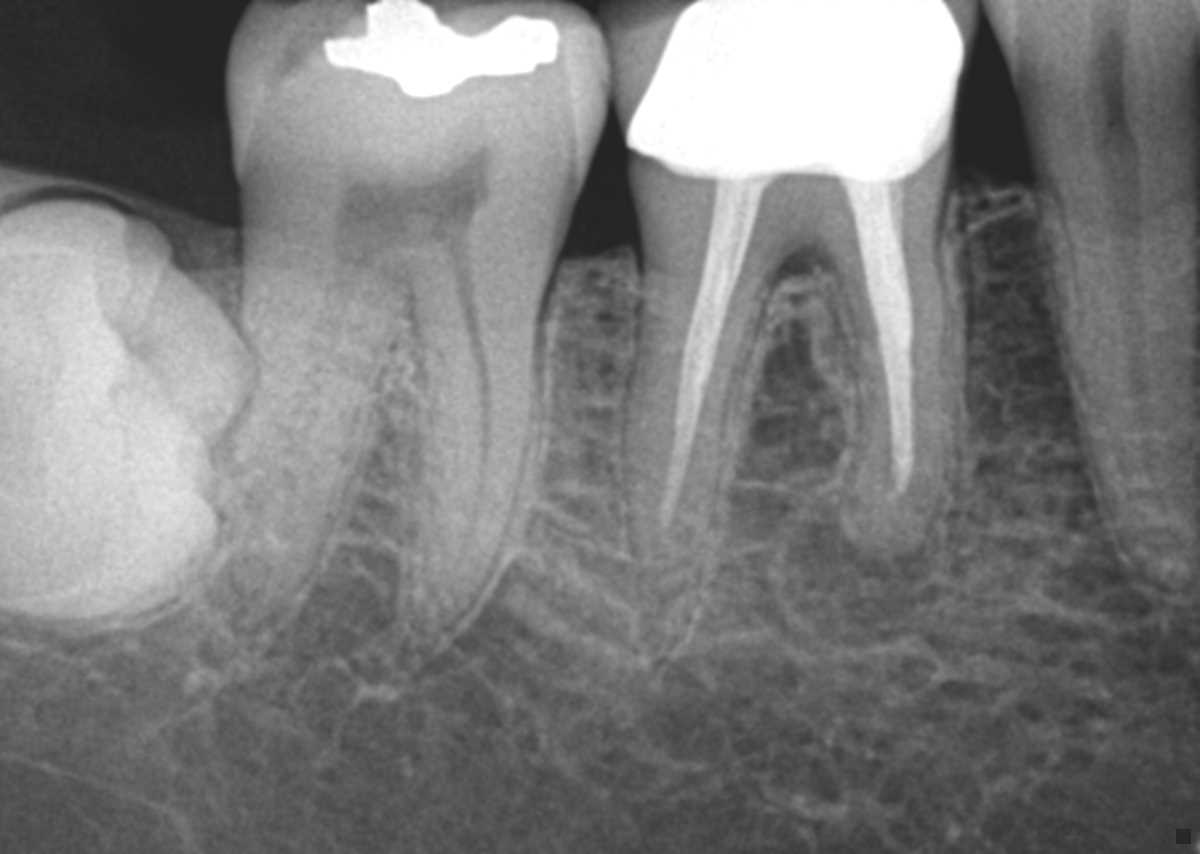Apical Lesion: (774, 491, 942, 661)
Distal Root: (224, 282, 407, 631), (617, 257, 776, 581)
Main Canal: (1110, 194, 1191, 560)
Main Root: (1037, 185, 1200, 594)
Mesial Canal: (449, 271, 492, 594)
Mesial Root: (401, 258, 558, 642), (842, 232, 971, 560)
Root Canal Filling: (654, 181, 769, 538), (865, 239, 916, 499)
